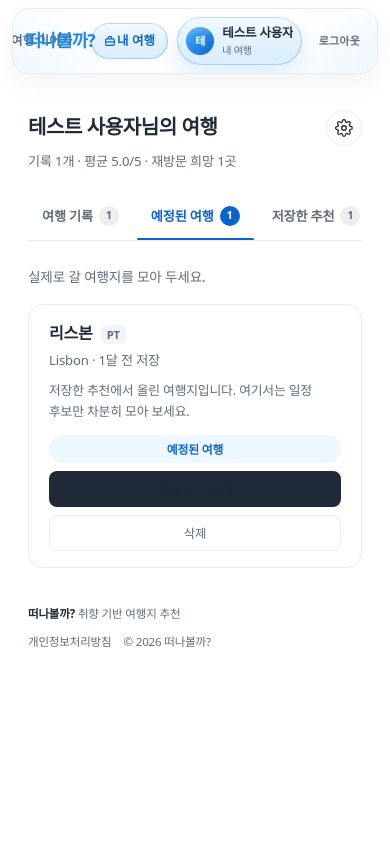
Scenario: AccountExperience future trips tab › shows planned snapshots as a separate read-only list and preserves history
Expected: the element with test id "future-trip-entry-0" shows "리스본", [49,322,93,344]
Expected: the element with test id "future-trip-entry-0" shows "예정된 여행", [167,441,223,457]
Click the tab with test id "account-tab-history". click: [80, 218]
box: [28,196,133,240]
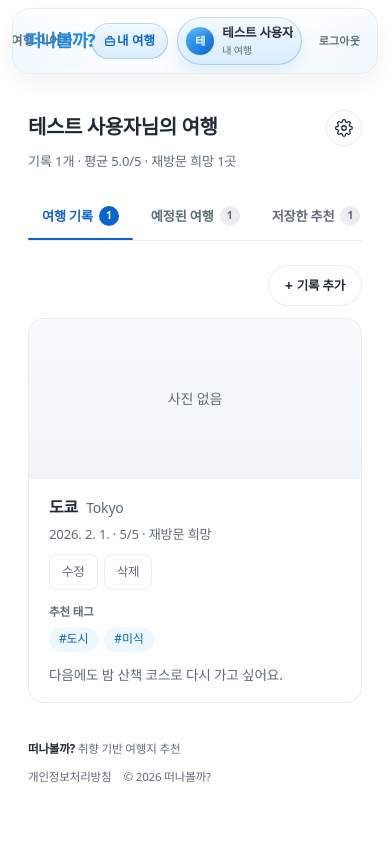
Expected: the element with test id "history-entry-0" shows "도쿄", [49,496,78,518]
Click the tab with test id "account-tab-saved". click: [316, 218]
box: [258,196,374,240]
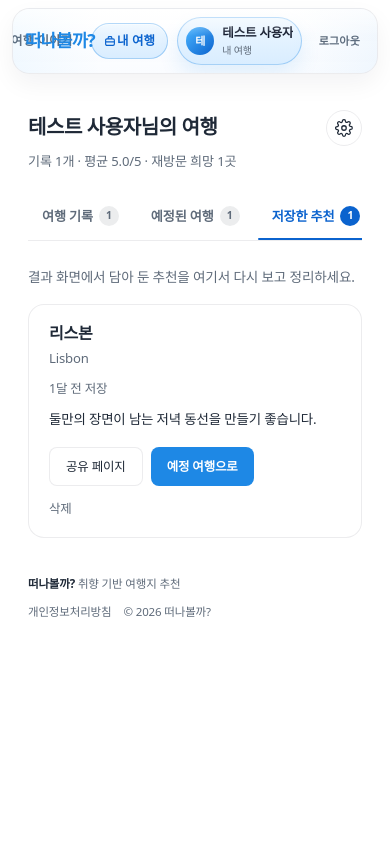
Expected: the element with test id "saved-snapshot-0" shows "리스본", [49,322,93,344]
